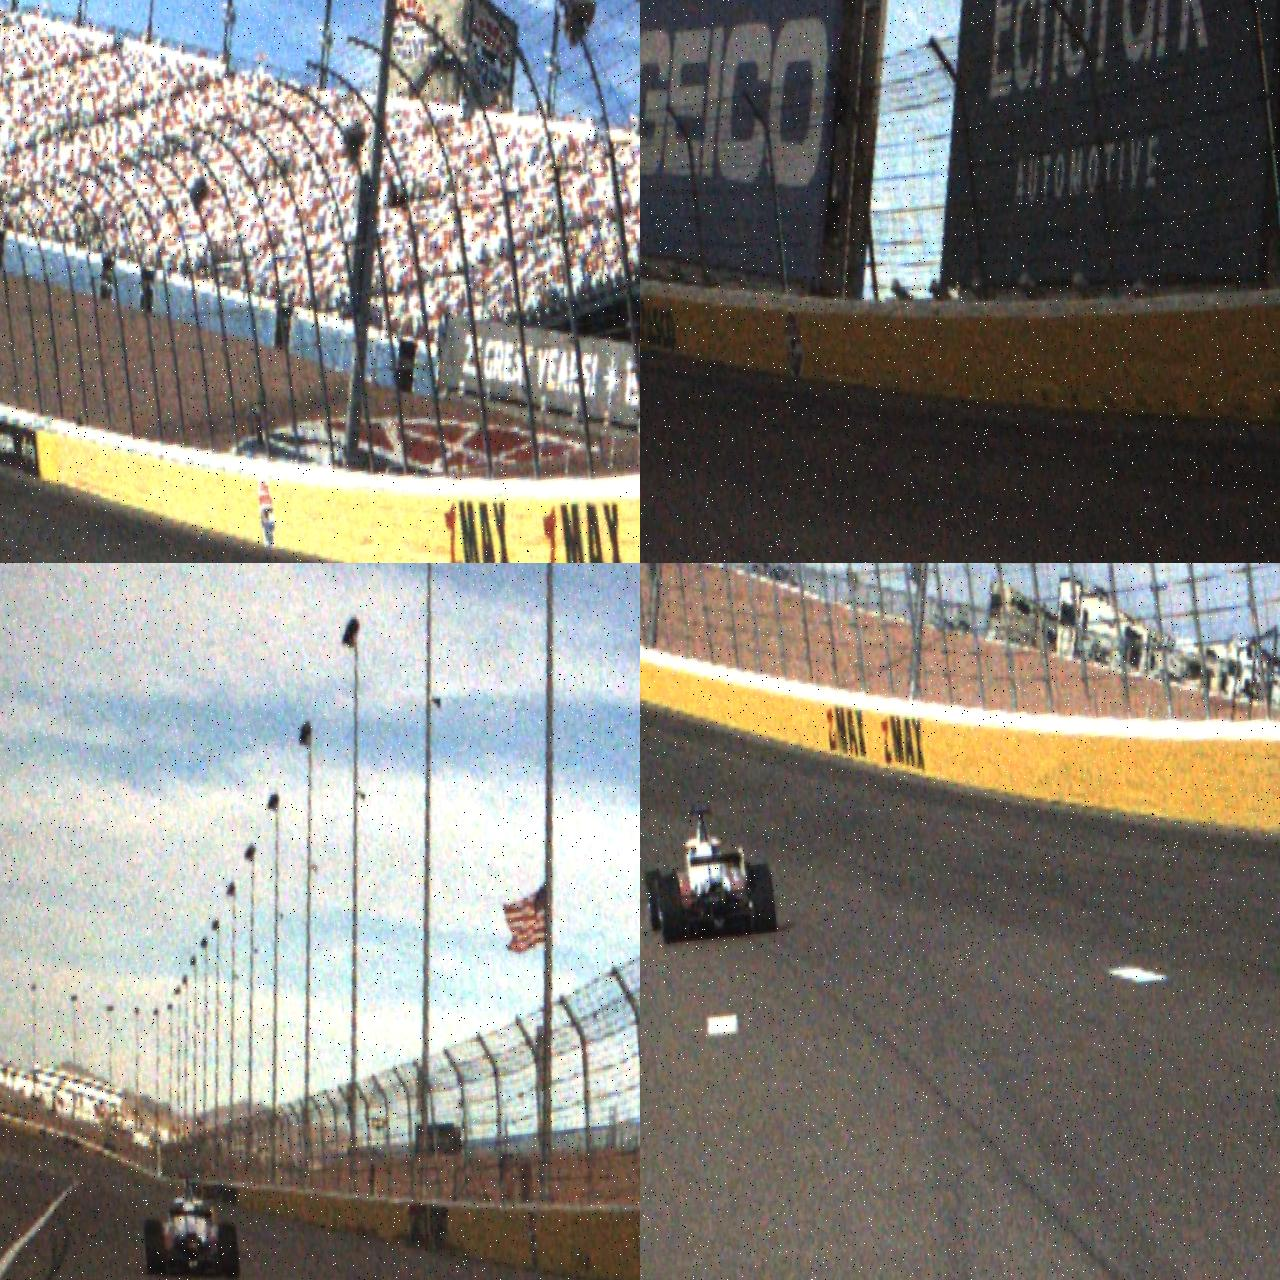AV: (640, 799, 777, 944), (138, 1167, 241, 1280)
Wheel: (748, 864, 778, 934), (656, 874, 686, 942), (143, 1218, 168, 1278), (645, 869, 668, 933), (219, 1222, 241, 1280)
